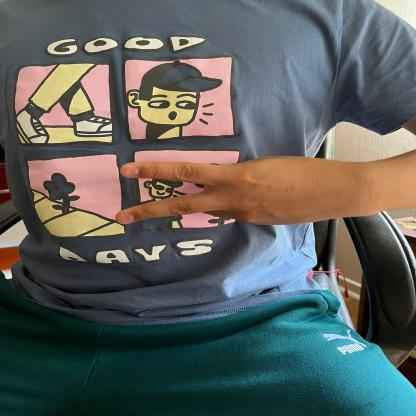H: (114, 152, 362, 231)
